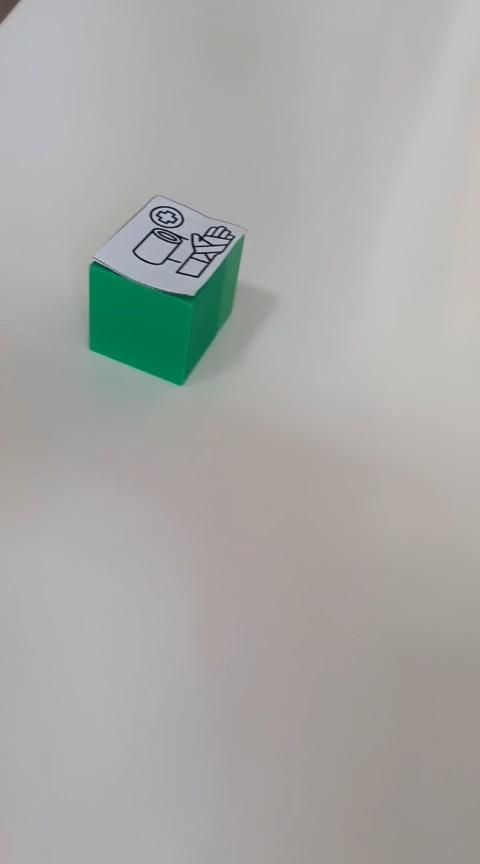Bandages: (87, 192, 247, 386)
